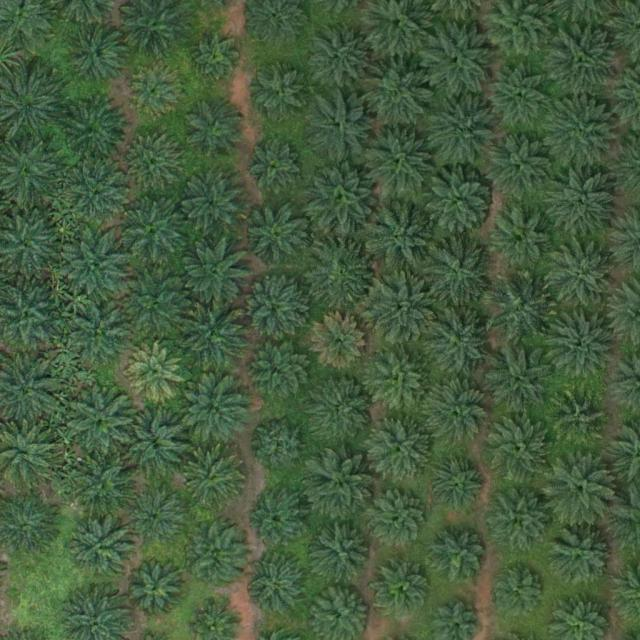Grass: (62, 160, 132, 231), (64, 231, 134, 302), (69, 387, 139, 458), (72, 458, 135, 521), (65, 302, 128, 364)
Healthy: (119, 194, 190, 265), (180, 238, 251, 309), (307, 92, 378, 163), (545, 169, 616, 240), (424, 307, 495, 378), (179, 299, 250, 370), (59, 95, 129, 166), (123, 273, 193, 344), (307, 164, 378, 234), (363, 60, 433, 131), (365, 205, 435, 276), (367, 274, 437, 345), (425, 25, 495, 96), (429, 95, 499, 166), (425, 165, 495, 236), (422, 236, 492, 307), (548, 25, 618, 96), (548, 99, 618, 170), (546, 307, 616, 378), (486, 344, 556, 415), (122, 408, 192, 479), (179, 378, 249, 449), (309, 454, 379, 525), (304, 22, 374, 92), (308, 240, 378, 310), (364, 127, 434, 197), (487, 130, 557, 200), (485, 274, 555, 344), (550, 243, 620, 313), (546, 453, 616, 523), (483, 415, 553, 485), (185, 96, 248, 159), (182, 174, 245, 237), (244, 204, 307, 267), (492, 207, 555, 270), (550, 525, 613, 588), (425, 379, 488, 442), (249, 339, 312, 402), (67, 24, 129, 87), (249, 65, 311, 128), (244, 277, 307, 339), (489, 68, 552, 130), (490, 490, 552, 553), (370, 348, 432, 411), (369, 418, 432, 480), (368, 487, 430, 550), (74, 522, 136, 585), (183, 449, 245, 512), (185, 532, 248, 594), (313, 377, 375, 440), (553, 391, 608, 447), (128, 67, 183, 122), (127, 133, 182, 188), (191, 29, 246, 84), (247, 139, 302, 194), (428, 456, 483, 511), (432, 531, 487, 586), (376, 563, 431, 618), (126, 489, 181, 544), (128, 563, 183, 618), (254, 419, 309, 474), (249, 559, 304, 614), (316, 525, 371, 580), (492, 563, 546, 618), (255, 493, 309, 548)
Yellow: (312, 315, 367, 370), (128, 343, 183, 398)
